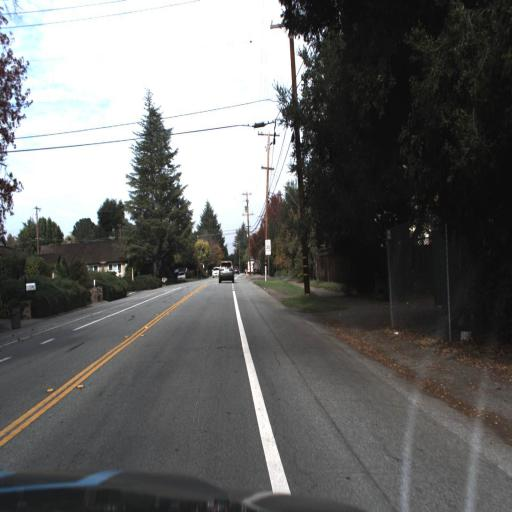car: (215, 256, 236, 290), (173, 264, 190, 290), (210, 261, 220, 282), (244, 254, 254, 274)
